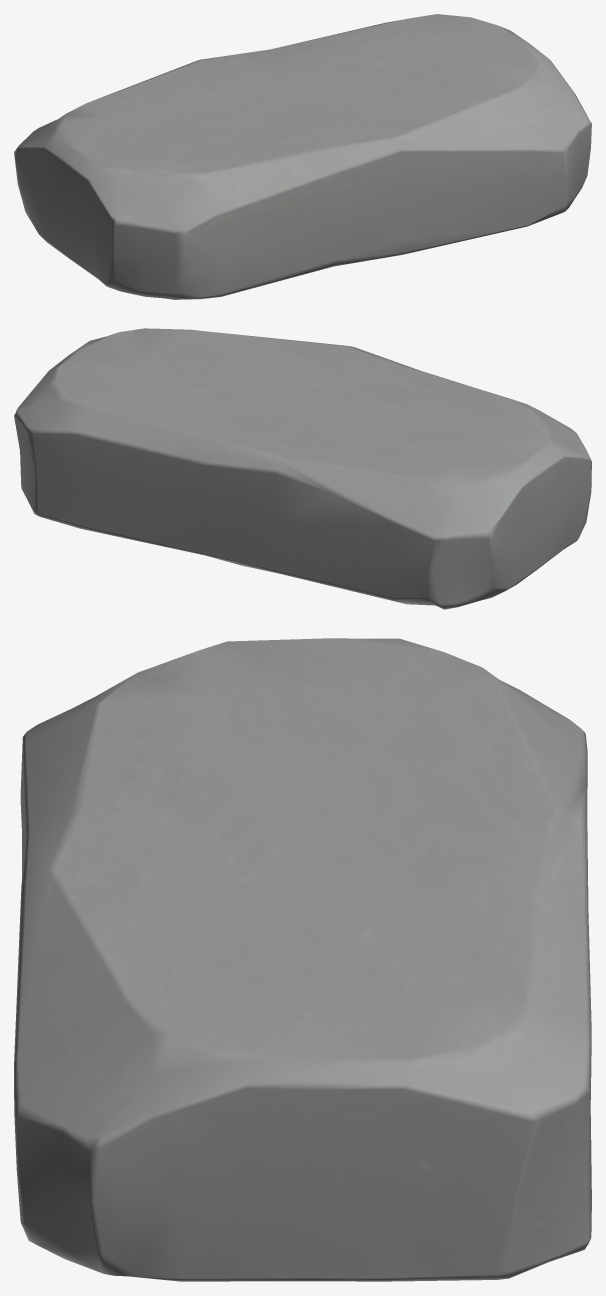
File: Meshy_AI_model_20261128_texture.fbx
3 renders of one model, top to bottom at view 1: azimuth 30°, elevation 25°; view 2: azimuth 150°, elevation 25°; view 3: azimuth 270°, elevation 25°, orthographic. The views are drawn at different scales.
Visible parts, largest first — view 1: geometry_0; view 2: geometry_0; view 3: geometry_0.
Part boxes in pixels (left/top/right/bottom): geometry_0: left=14, top=14, right=591, bottom=299; geometry_0: left=14, top=328, right=591, bottom=609; geometry_0: left=14, top=638, right=591, bottom=1281.
Bounding box in the file's own units: 100 × 23.52 × 54.68.
Materials: 1 (1 with a texture image).
